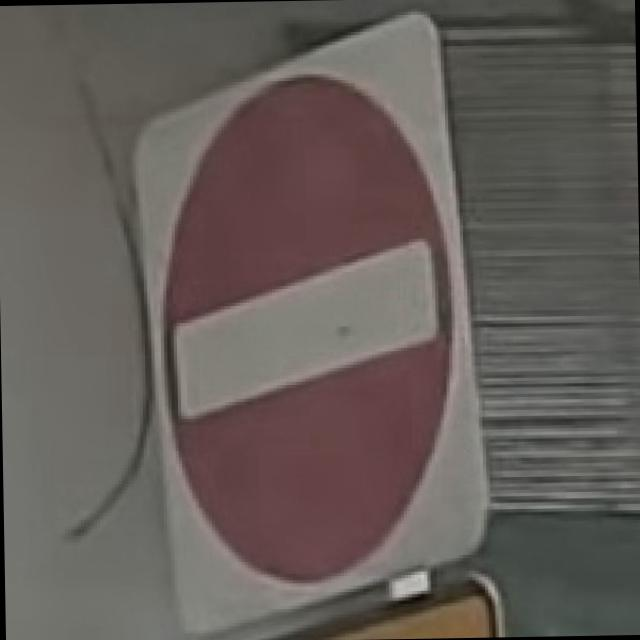noentry_sign: (119, 6, 495, 636)
